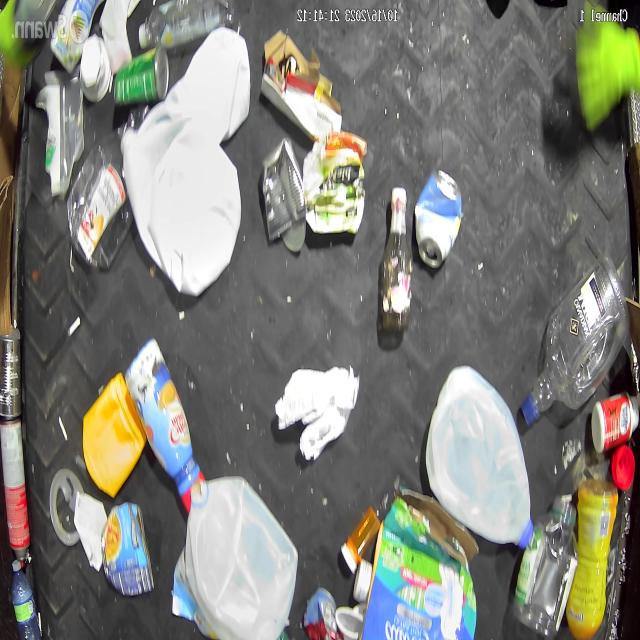can: (260, 136, 308, 255), (100, 502, 154, 597), (414, 167, 463, 269), (0, 416, 31, 569), (113, 45, 170, 106), (302, 586, 343, 640), (0, 327, 22, 416)
milk_jug: (121, 100, 242, 299), (424, 364, 534, 550), (185, 473, 300, 640), (165, 25, 251, 146)
plastic_bottle: (138, 0, 235, 52), (12, 561, 42, 640)
